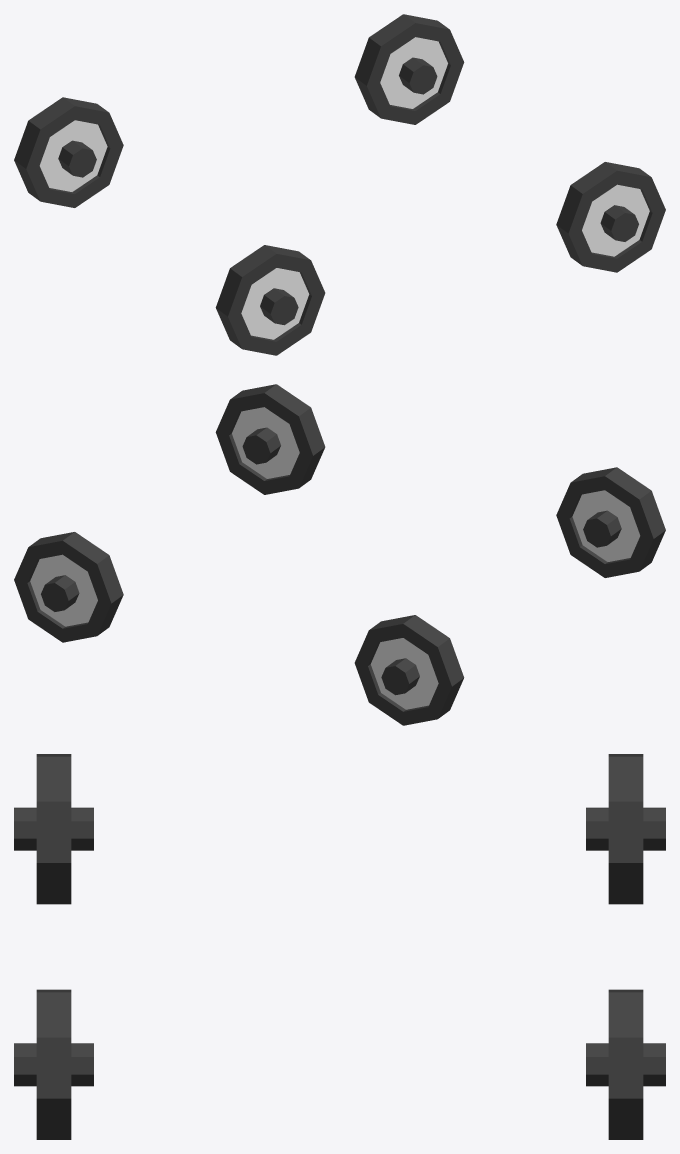
The model's file is shopping cart wheels.fbx.
3 views of the same model, one above another, from view 1: azimuth 30°, elevation 25°; view 2: azimuth 150°, elevation 25°; view 3: azimuth 270°, elevation 25° (orthographic). The views are drawn at different scales.
Visible parts, largest first — view 1: Plane.001, Plane.003, Plane.002, Plane.004; view 2: Plane.002, Plane.004, Plane.001, Plane.003; view 3: Plane.001, Plane.002, Plane.003, Plane.004.
Part boxes in pixels (x1,y1,x2,y2): Plane.001: [354, 14, 464, 124]; Plane.003: [215, 245, 325, 355]; Plane.002: [14, 97, 123, 207]; Plane.004: [556, 162, 665, 272]; Plane.002: [354, 615, 464, 725]; Plane.004: [215, 384, 325, 494]; Plane.001: [14, 532, 123, 642]; Plane.003: [556, 467, 665, 577]; Plane.001: [586, 989, 665, 1139]; Plane.002: [586, 754, 665, 904]; Plane.003: [14, 754, 93, 904]; Plane.004: [14, 989, 93, 1139].
Bounding box in the file's own units: 188 × 46 × 207.
